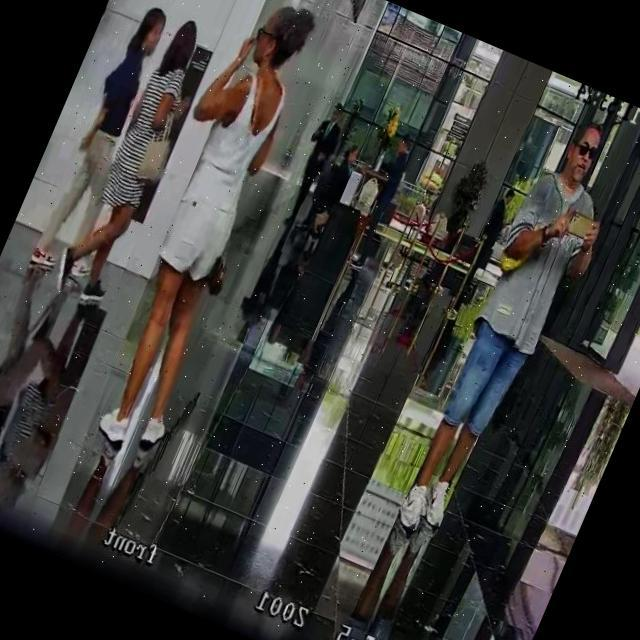person: (59, 0, 338, 463), (382, 107, 640, 559), (48, 9, 218, 312), (23, 0, 174, 284), (274, 98, 352, 233), (341, 132, 417, 266), (450, 182, 520, 311), (465, 183, 519, 277), (322, 141, 363, 207)
